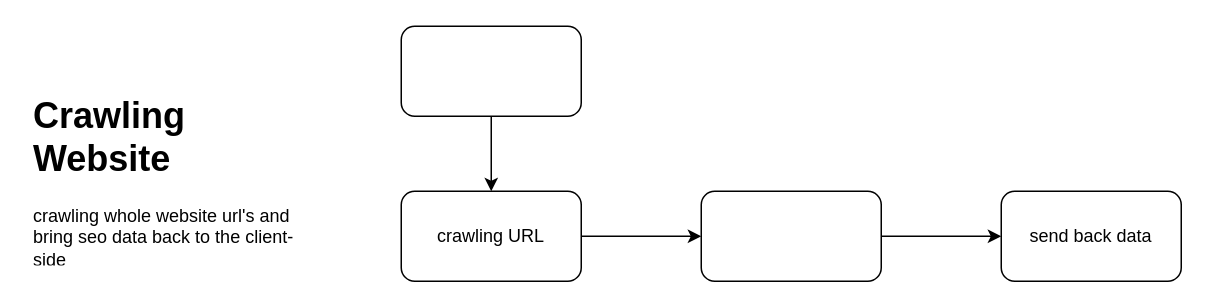
Some shapes in this 1208 by 308 pixel diagram are drawn without their labels. The shapes that lost their labels are listed below. From the top down, each one's centre as x and y in pixels, then its label:
At (490,70): "input URL".
At (790,235): "fetching URL".
